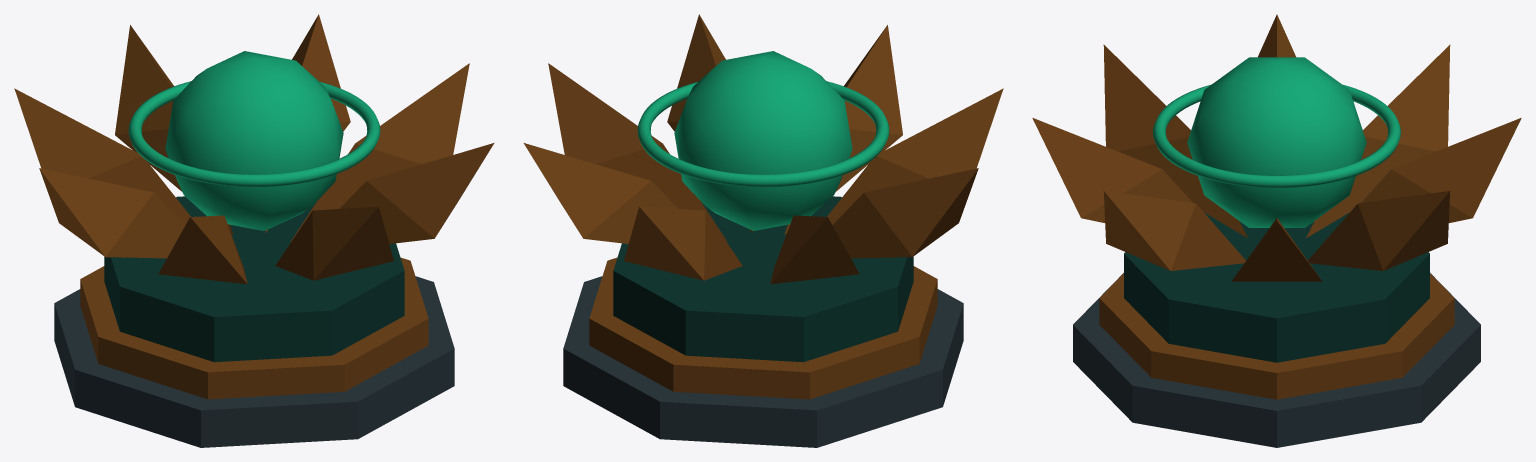
The model's file is SM_JA_LotusBrazier.fbx.
The picture shows the model from 3 angles, left to right: view 1: azimuth 30°, elevation 25°; view 2: azimuth 150°, elevation 25°; view 3: azimuth 270°, elevation 25°; orthographic projection.
Visible parts, largest first — view 1: SM_JA_LotusBrazier; view 2: SM_JA_LotusBrazier; view 3: SM_JA_LotusBrazier.
Part boxes in pixels (bbox=[...]): SM_JA_LotusBrazier: bbox=[14, 14, 494, 447]; SM_JA_LotusBrazier: bbox=[523, 14, 1003, 447]; SM_JA_LotusBrazier: bbox=[1032, 14, 1521, 447].
Bounding box in the file's own units: 3 × 3 × 2.03.
